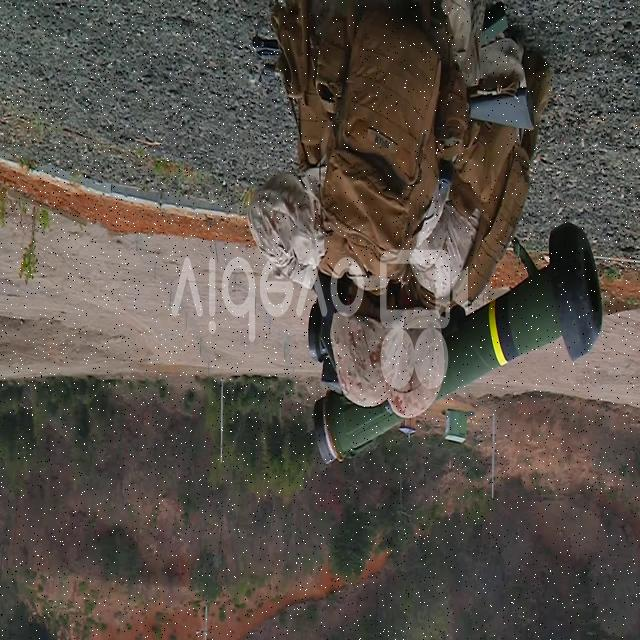bazooka: (308, 215, 610, 474)
